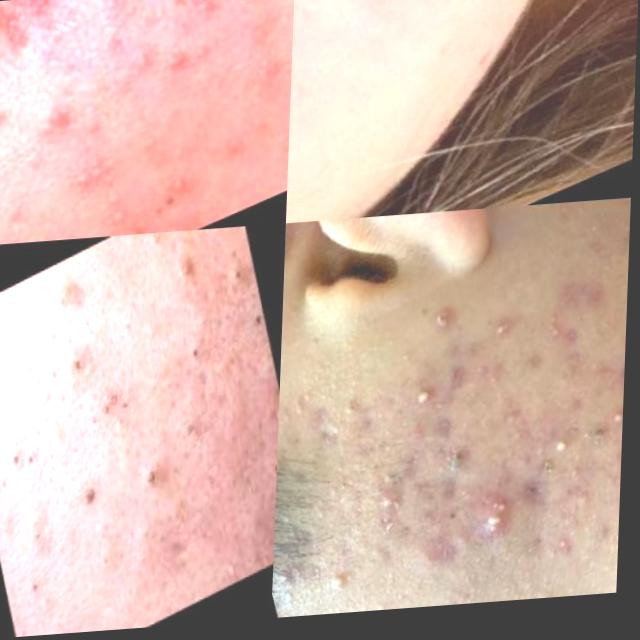8: (158, 37, 209, 94)
9: (406, 375, 453, 438), (546, 426, 588, 485), (323, 561, 366, 612), (427, 302, 468, 351), (487, 314, 524, 355), (114, 218, 170, 237), (607, 413, 627, 448), (0, 49, 11, 104)
blackheads: (359, 447, 424, 551), (471, 486, 533, 570), (7, 0, 64, 51)
dark spot: (166, 322, 234, 386), (6, 427, 60, 495), (133, 447, 180, 525), (89, 380, 146, 438), (61, 335, 115, 396), (339, 393, 378, 443), (228, 257, 259, 310), (185, 414, 212, 464), (263, 451, 281, 518)
